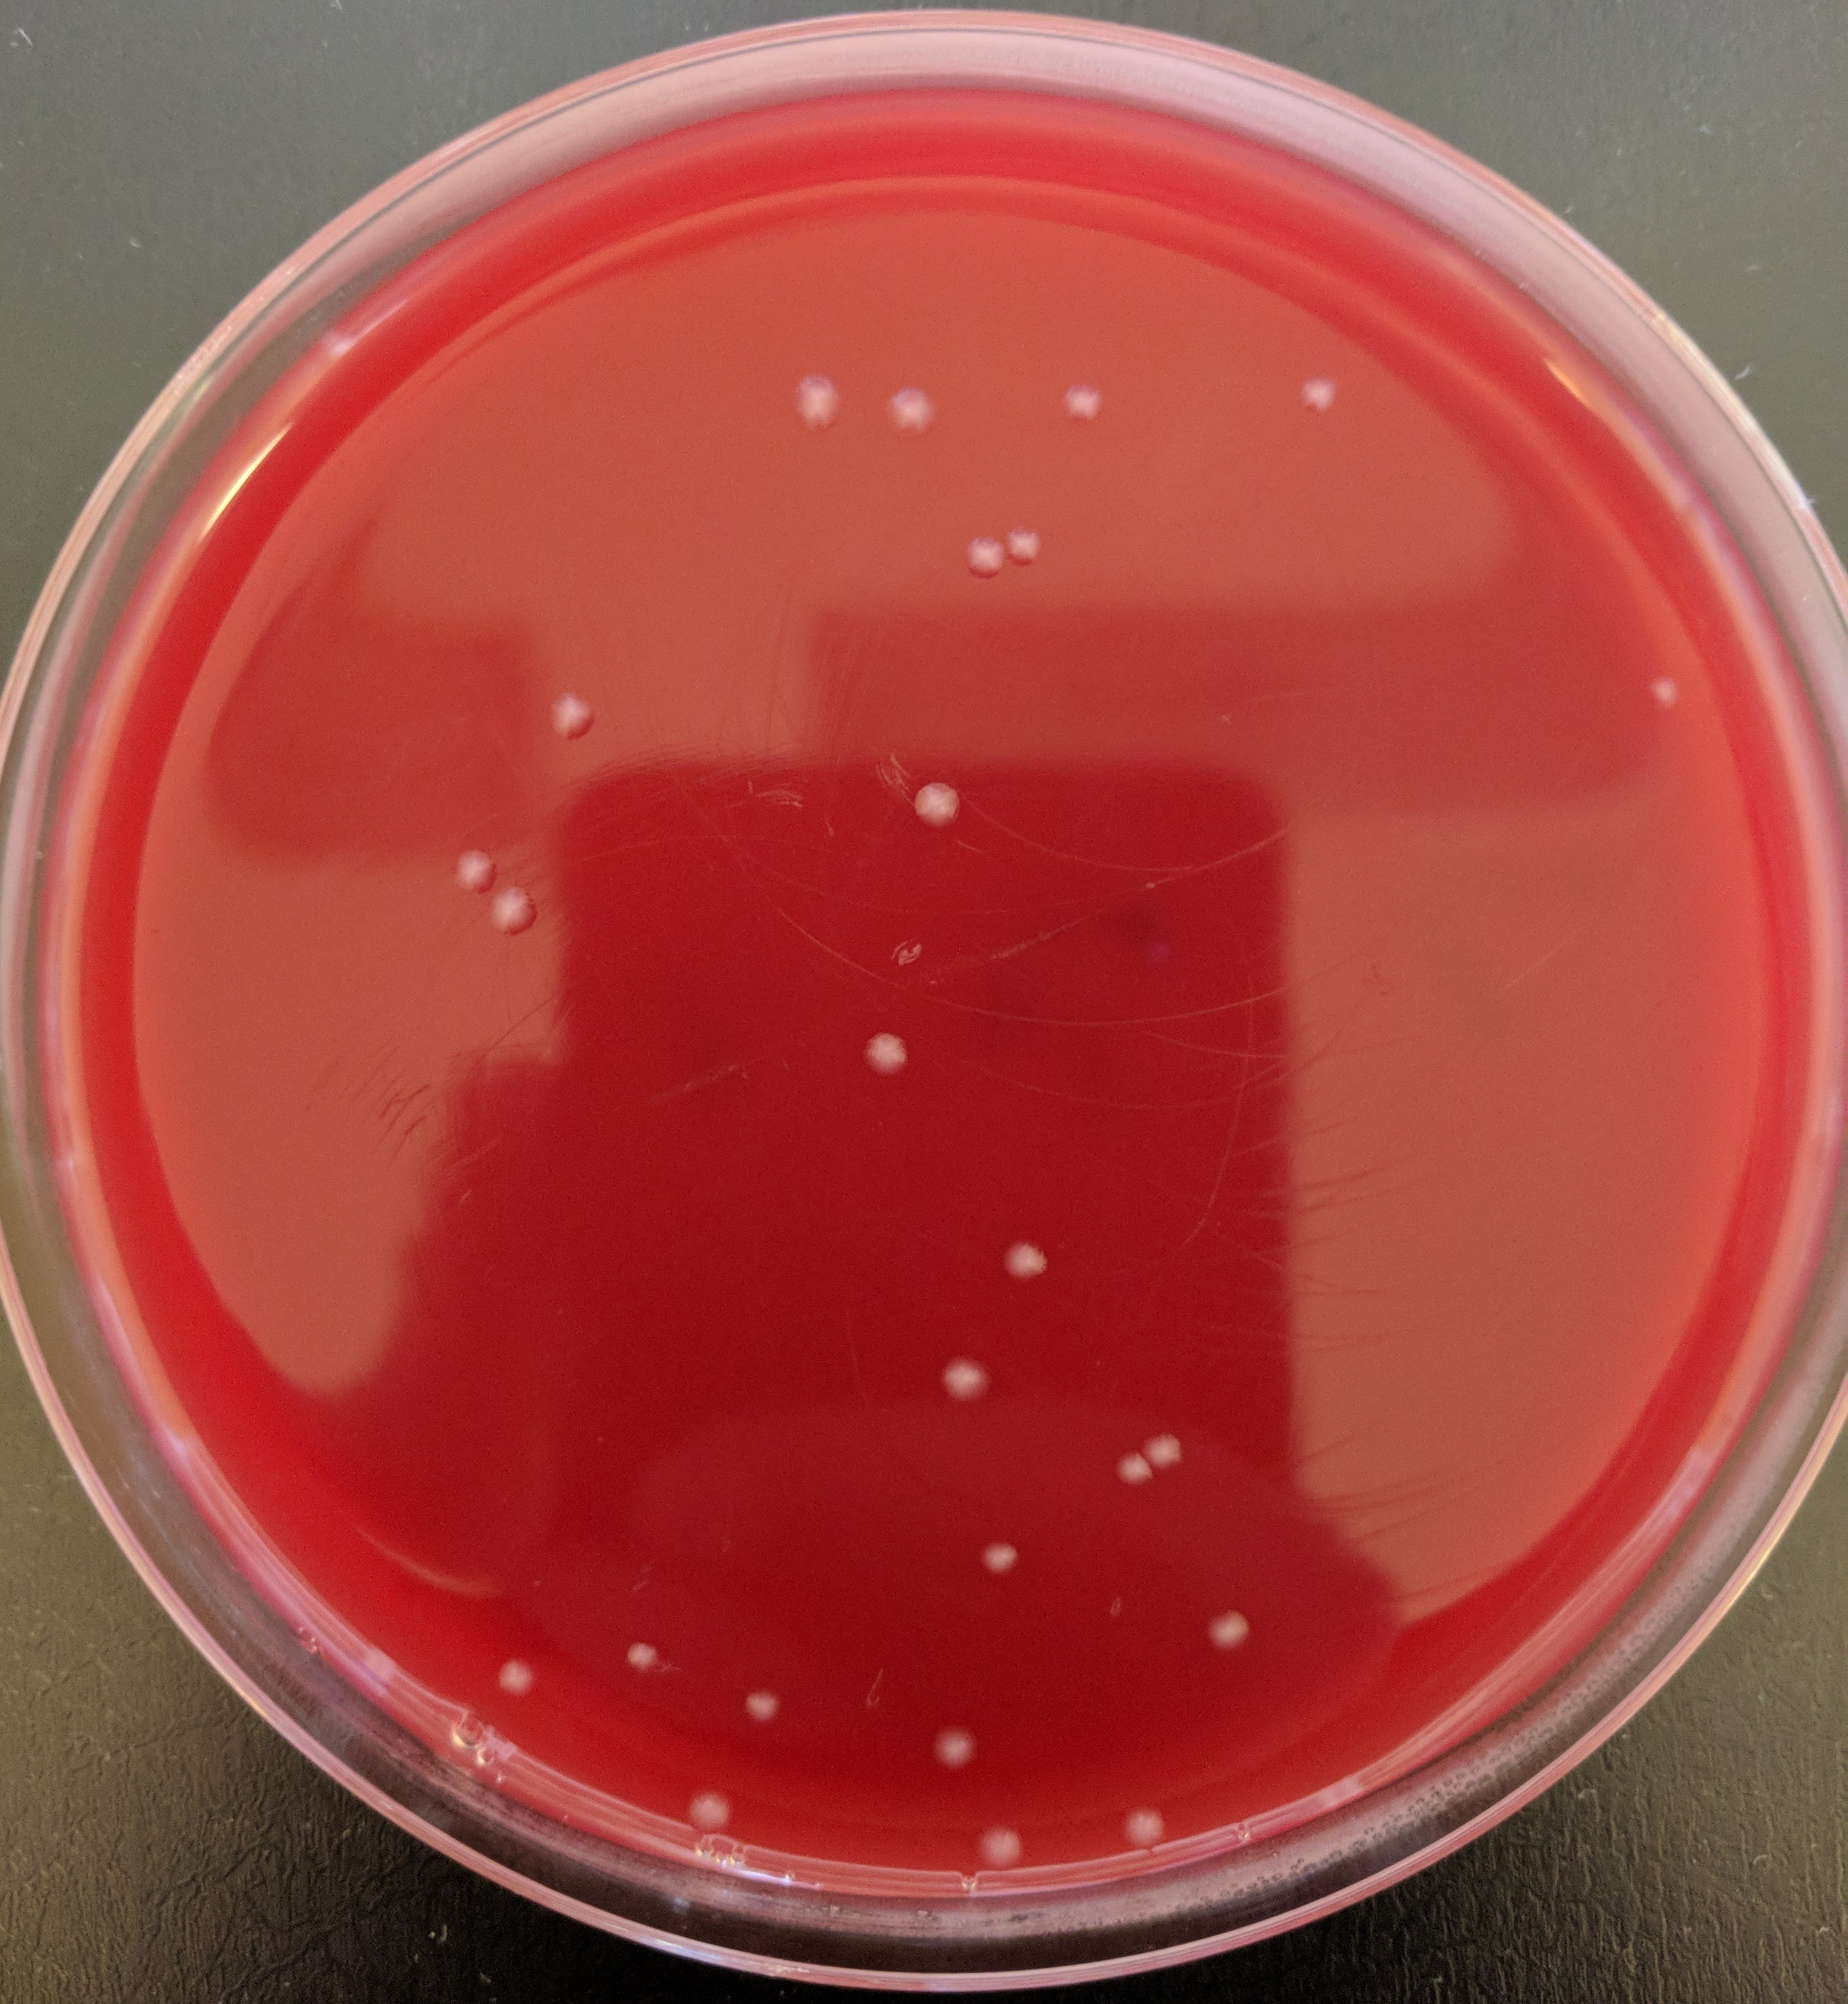sp18: (937, 1348, 993, 1410), (487, 883, 546, 941), (911, 777, 968, 834), (791, 368, 839, 435), (1002, 1234, 1066, 1281), (883, 381, 939, 435), (546, 691, 600, 745), (1197, 1606, 1258, 1651), (454, 845, 499, 899), (1117, 1802, 1167, 1849), (977, 1824, 1030, 1870), (1002, 522, 1056, 566), (686, 1789, 735, 1836), (490, 1660, 544, 1702), (977, 1536, 1028, 1578), (968, 532, 1007, 587), (1295, 370, 1337, 417), (867, 1030, 909, 1077), (740, 1679, 780, 1726), (1061, 381, 1103, 424), (932, 1725, 974, 1768), (1148, 1426, 1192, 1463), (1113, 1445, 1152, 1484), (623, 1637, 665, 1669), (1651, 672, 1684, 710)
